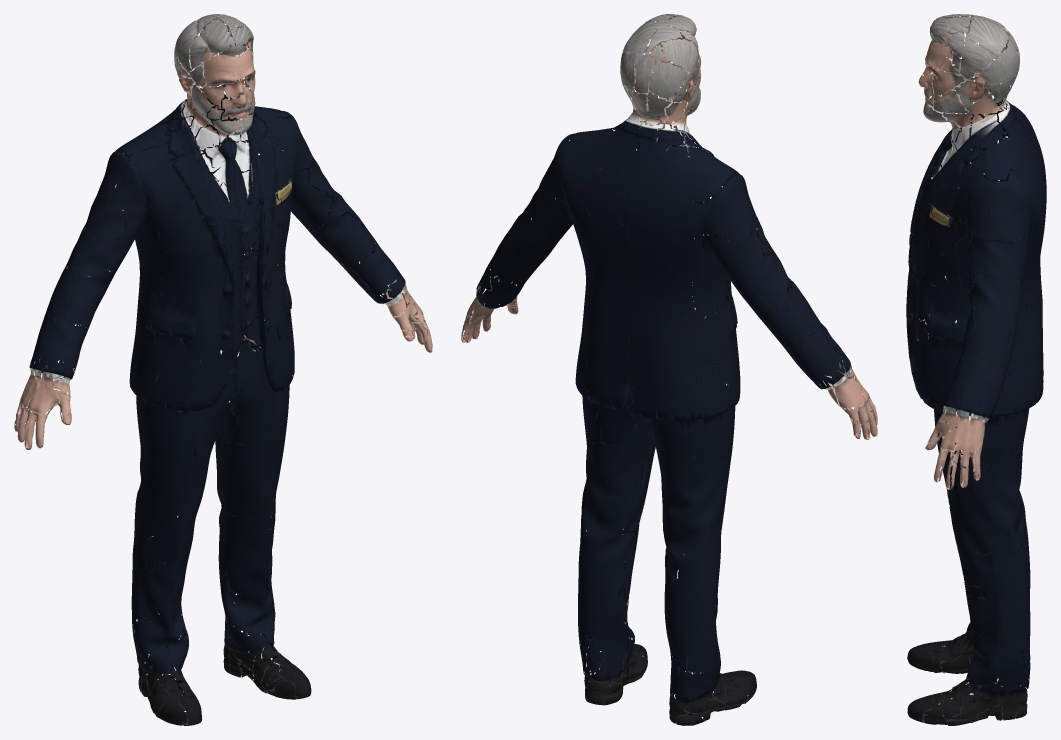
File: concierge.glb
3 renders of one model, left to right at view 1: azimuth 30°, elevation 25°; view 2: azimuth 150°, elevation 25°; view 3: azimuth 270°, elevation 25°, orthographic.
Bounding box in the file's own units: 1.2 × 1.9 × 0.3588.
Materials: 1 (1 with a texture image).
